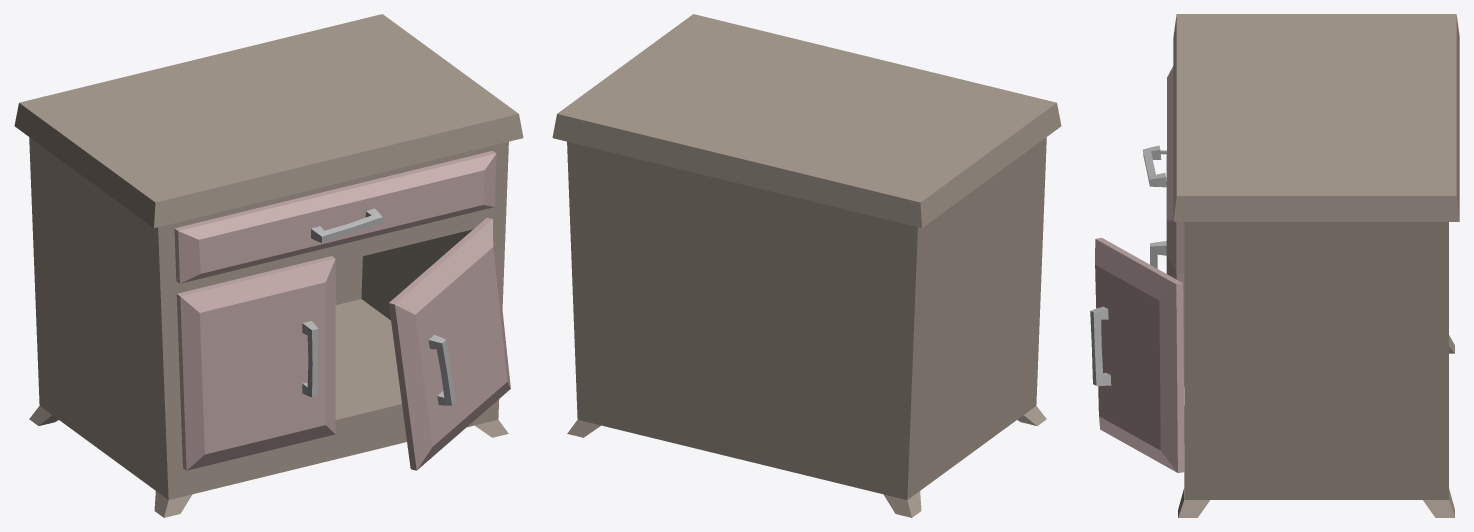
File: DrawerBasic.glb
The picture shows the model from 3 angles, left to right: view 1: azimuth 30°, elevation 25°; view 2: azimuth 150°, elevation 25°; view 3: azimuth 270°, elevation 25°; orthographic projection. The views are drawn at different scales.
Parts seen in each view (by area): view 1: pCube1, pCube2, pCube4, pCube5, pCube3, pCube12, pCube11, pCube10, pCube6; view 2: pCube1, pCube2, pCube7; view 3: pCube1, pCube2, pCube5, pCube3, pCube11, pCube10, pCube4, pCube8, pCube9.
Boxes of the visible parts, left/top/right/bottom form: pCube1: left=29, top=137, right=508, bottom=499; pCube2: left=14, top=14, right=523, bottom=227; pCube4: left=176, top=256, right=335, bottom=470; pCube5: left=388, top=218, right=510, bottom=470; pCube3: left=174, top=150, right=496, bottom=283; pCube12: left=302, top=321, right=318, bottom=397; pCube11: left=428, top=334, right=455, bottom=405; pCube10: left=311, top=208, right=382, bottom=242; pCube6: left=154, top=491, right=192, bottom=517; pCube1: left=567, top=137, right=1046, bottom=499; pCube2: left=552, top=14, right=1061, bottom=227; pCube7: left=883, top=491, right=921, bottom=517; pCube1: left=1184, top=222, right=1448, bottom=499; pCube2: left=1173, top=14, right=1459, bottom=221; pCube5: left=1095, top=238, right=1184, bottom=472; pCube3: left=1167, top=66, right=1183, bottom=273; pCube11: left=1090, top=306, right=1111, bottom=385; pCube10: left=1143, top=145, right=1166, bottom=187; pCube4: left=1166, top=154, right=1184, bottom=386; pCube8: left=1178, top=488, right=1209, bottom=517; pCube9: left=1423, top=488, right=1454, bottom=517.
Size of the model in its own units: 57.87 by 47.62 by 48.82.
